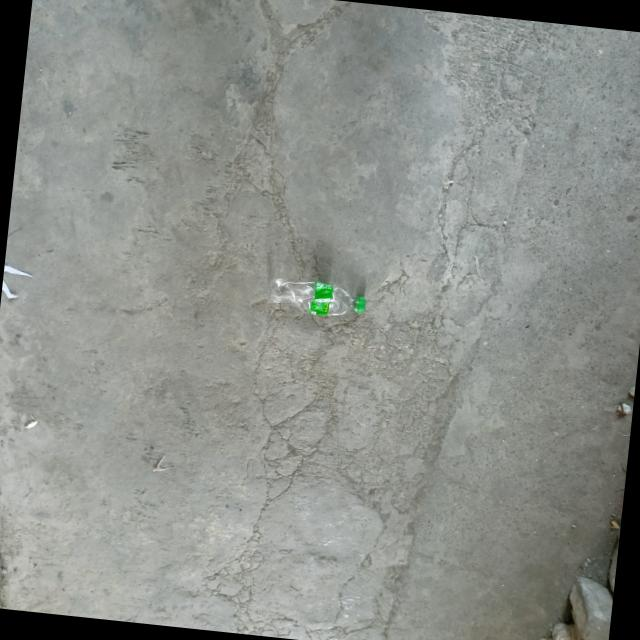Bottle: (269, 279, 366, 316)
